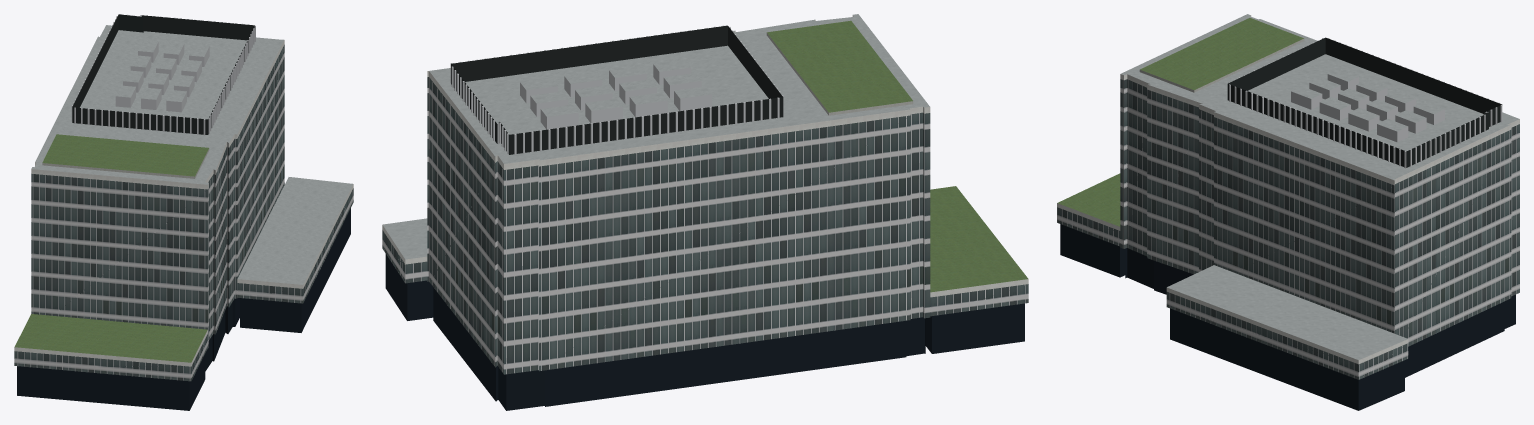
Rendered from d5062342-4fcd-5518-b375-70ecab203ebd.glb.
3 views of the same model, side by side, from view 1: azimuth 30°, elevation 25°; view 2: azimuth 150°, elevation 25°; view 3: azimuth 270°, elevation 25° (orthographic). The views are drawn at different scales.
Visible parts, largest first — view 1: d5062342-4fcd-5518-b375-70ecab203ebd; view 2: d5062342-4fcd-5518-b375-70ecab203ebd; view 3: d5062342-4fcd-5518-b375-70ecab203ebd.
Part boxes in pixels (x1=…): d5062342-4fcd-5518-b375-70ecab203ebd: x1=14, y1=14, x2=353, y2=410; d5062342-4fcd-5518-b375-70ecab203ebd: x1=382, y1=14, x2=1028, y2=410; d5062342-4fcd-5518-b375-70ecab203ebd: x1=1057, y1=14, x2=1519, y2=410.
Size of the model in its own units: 112 by 53.36 by 101.
8 materials, 5 textured.
